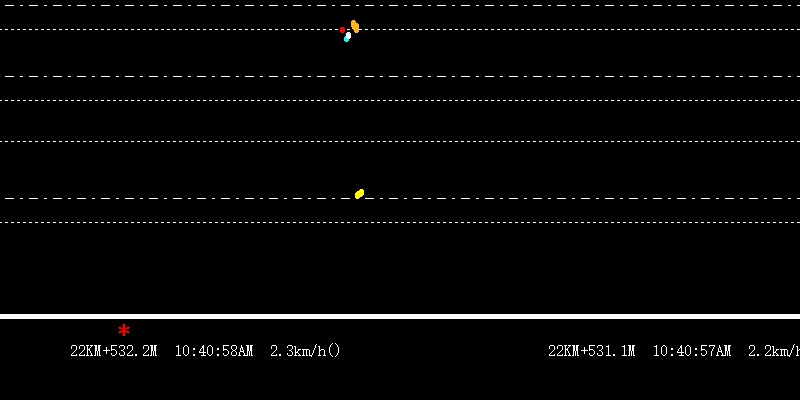face_1: (351, 15, 359, 35)
star: (117, 322, 131, 335)
